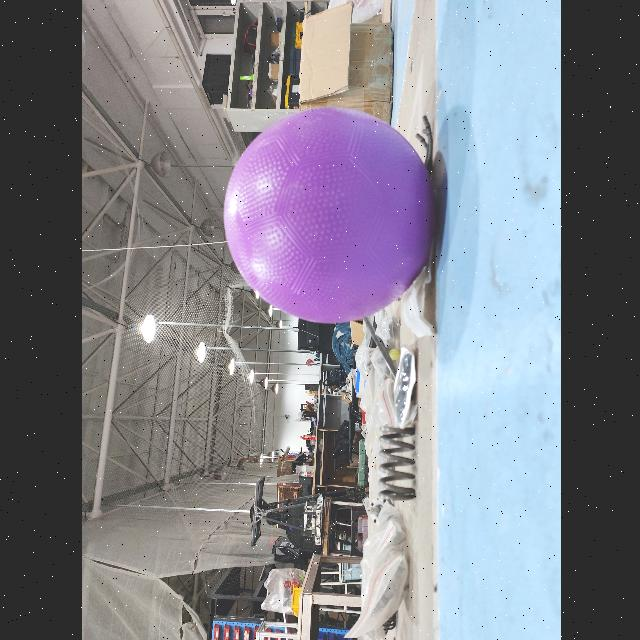P: (218, 110, 438, 320)
